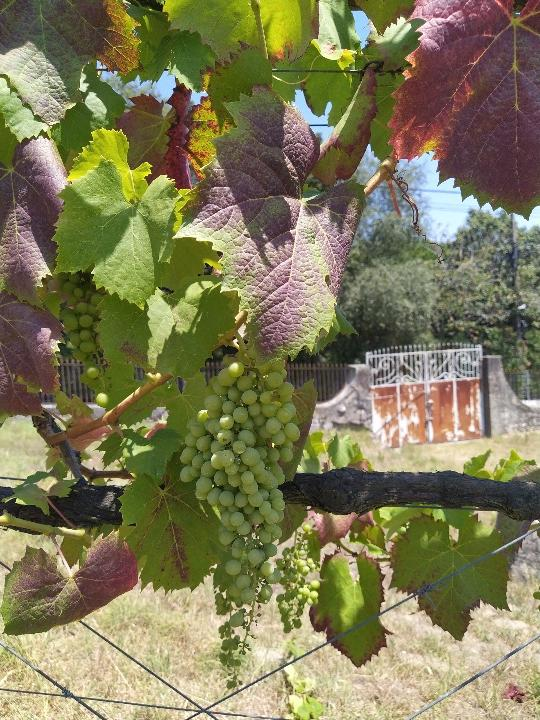grape: (176, 343, 299, 696), (266, 524, 328, 637)
